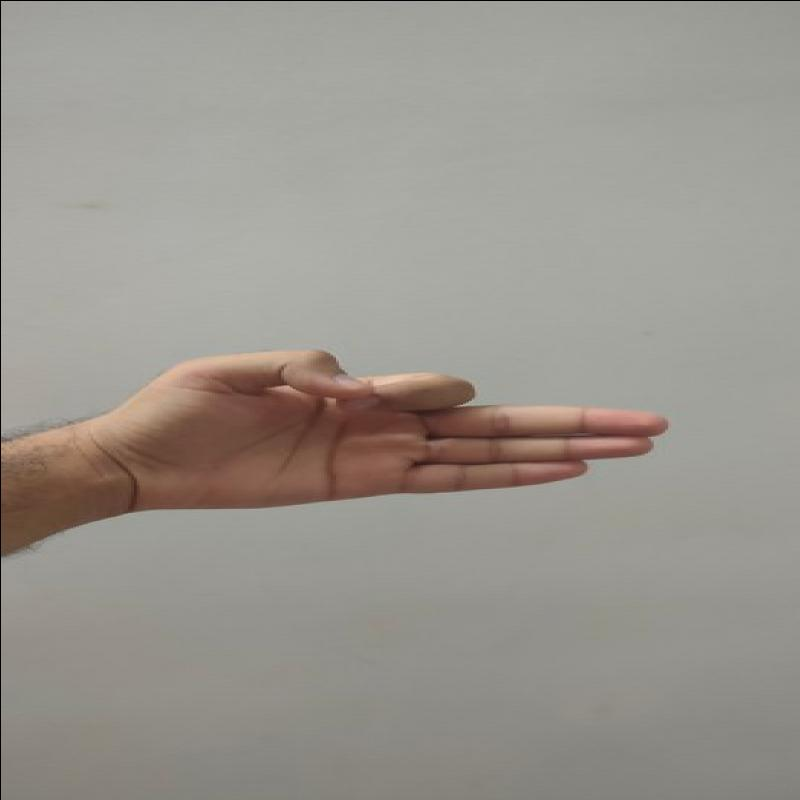Mudraakhyam: (104, 332, 683, 523)
